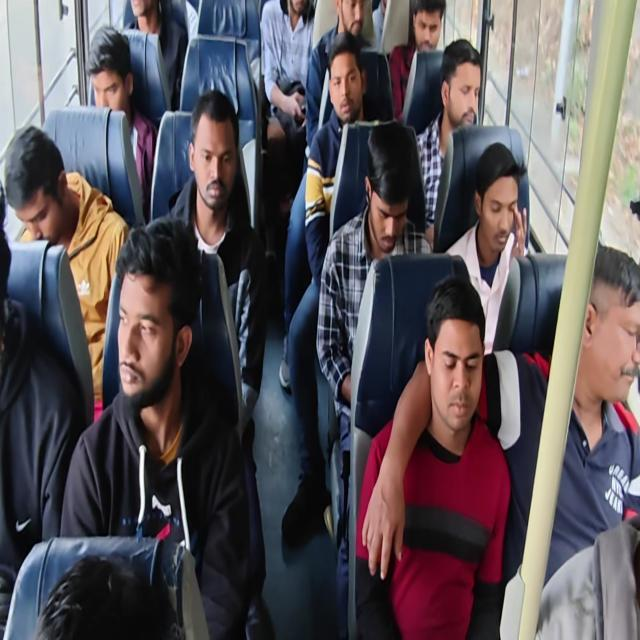person: (2, 1, 638, 638), (364, 243, 640, 626), (58, 215, 250, 638), (315, 121, 434, 637), (162, 89, 269, 636), (354, 276, 511, 638), (280, 30, 382, 544), (5, 124, 130, 419), (304, 31, 382, 287), (444, 141, 529, 355), (85, 24, 158, 222), (415, 38, 482, 246), (534, 514, 640, 639), (35, 553, 179, 639), (304, 0, 372, 164), (260, 0, 315, 148), (124, 0, 188, 109), (388, 0, 445, 121)
